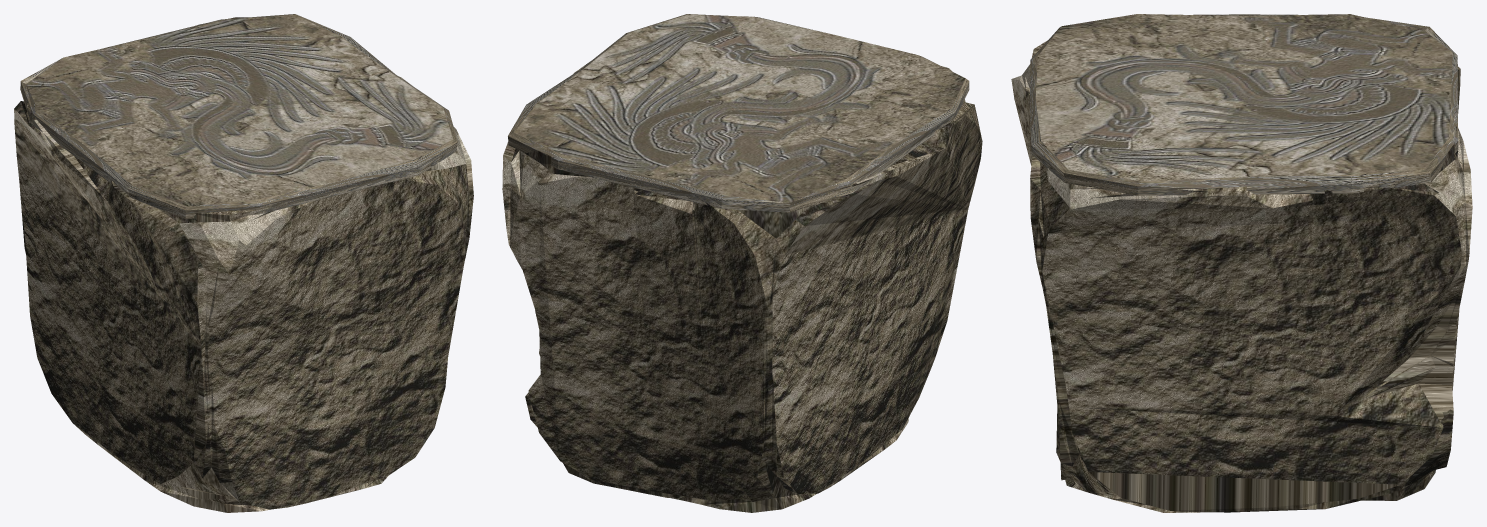
Rendered from Sacrifying-stone.obj.
3 views of the same model, side by side, from view 1: azimuth 30°, elevation 25°; view 2: azimuth 150°, elevation 25°; view 3: azimuth 270°, elevation 25° (orthographic). The views are drawn at different scales.
Visible parts, largest first — view 1: sacrifying-stone; view 2: sacrifying-stone; view 3: sacrifying-stone.
Part boxes in pixels (x1=…): sacrifying-stone: x1=14, y1=14, x2=473, y2=512; sacrifying-stone: x1=502, y1=14, x2=982, y2=512; sacrifying-stone: x1=1011, y1=14, x2=1472, y2=512.
Bounding box in the file's own units: 0.6918 × 0.6644 × 0.7699.
